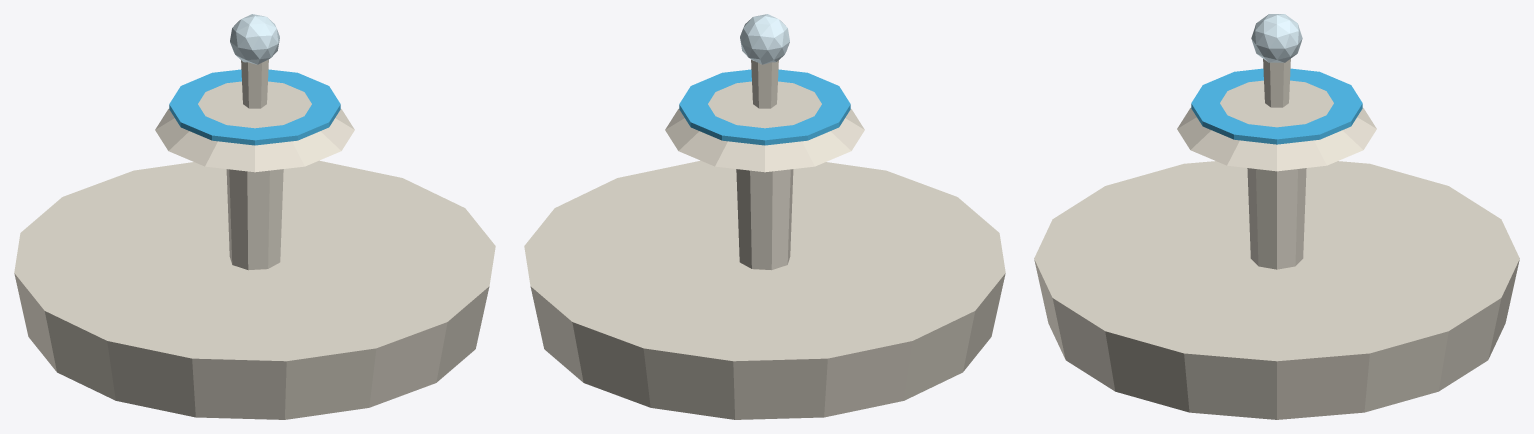
The model's file is fountain.glb.
3 views of the same model, side by side, from view 1: azimuth 30°, elevation 25°; view 2: azimuth 150°, elevation 25°; view 3: azimuth 270°, elevation 25° (orthographic).
Visible parts, largest first — view 1: fountain; view 2: fountain; view 3: fountain.
Part boxes in pixels (box(x1,y1,x2,y2)): fountain: box(14, 14, 495, 419); fountain: box(524, 14, 1005, 419); fountain: box(1034, 14, 1519, 419).
Size of the model in its own units: 3.4 by 2.38 by 3.4.
